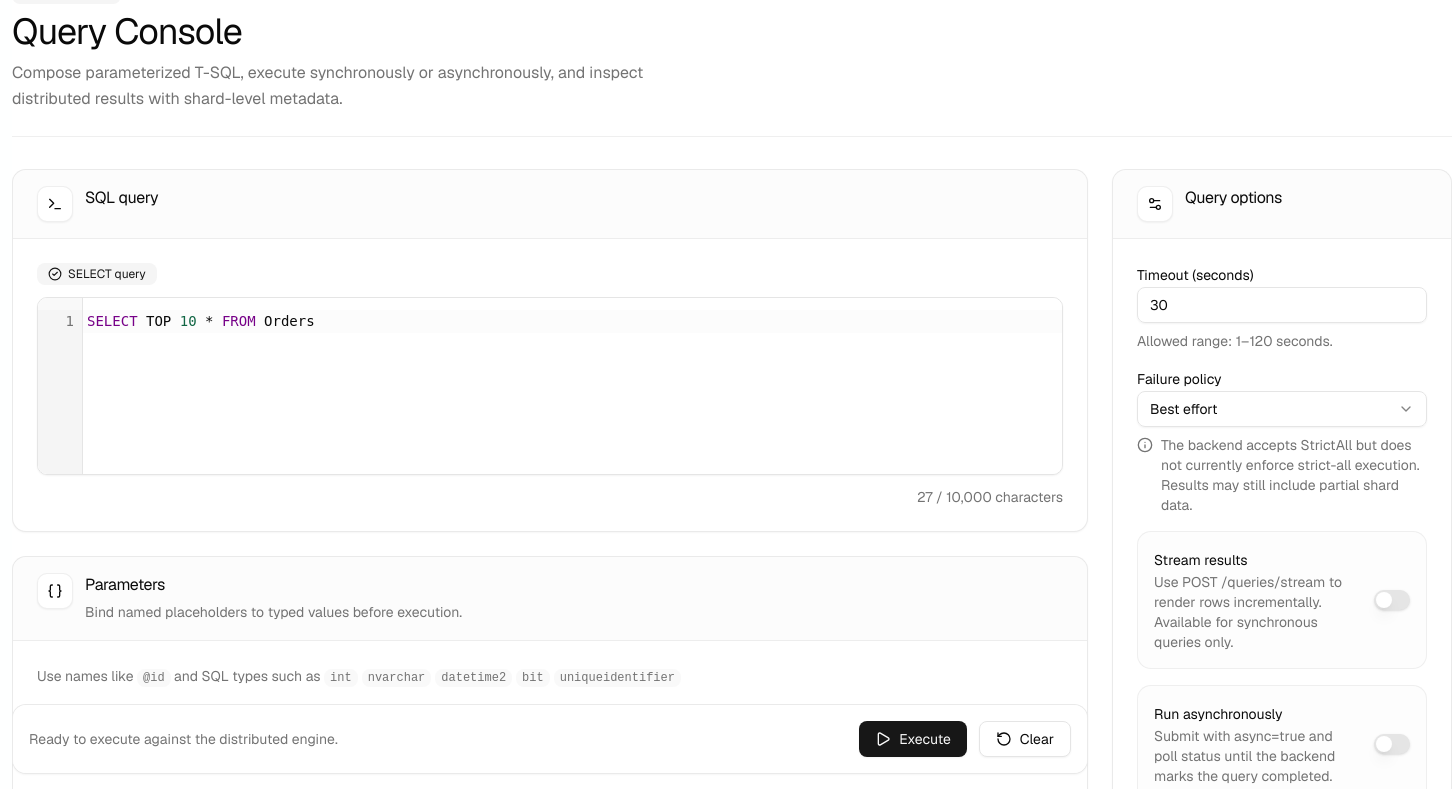
Test case: QueryConsolePage › shows a degradation banner for 206 partial content responses
This screenshot has width=1452, height=789.
Click the button "Execute".
click(913, 739)  # box [859, 721, 967, 757]
(page scrolled)
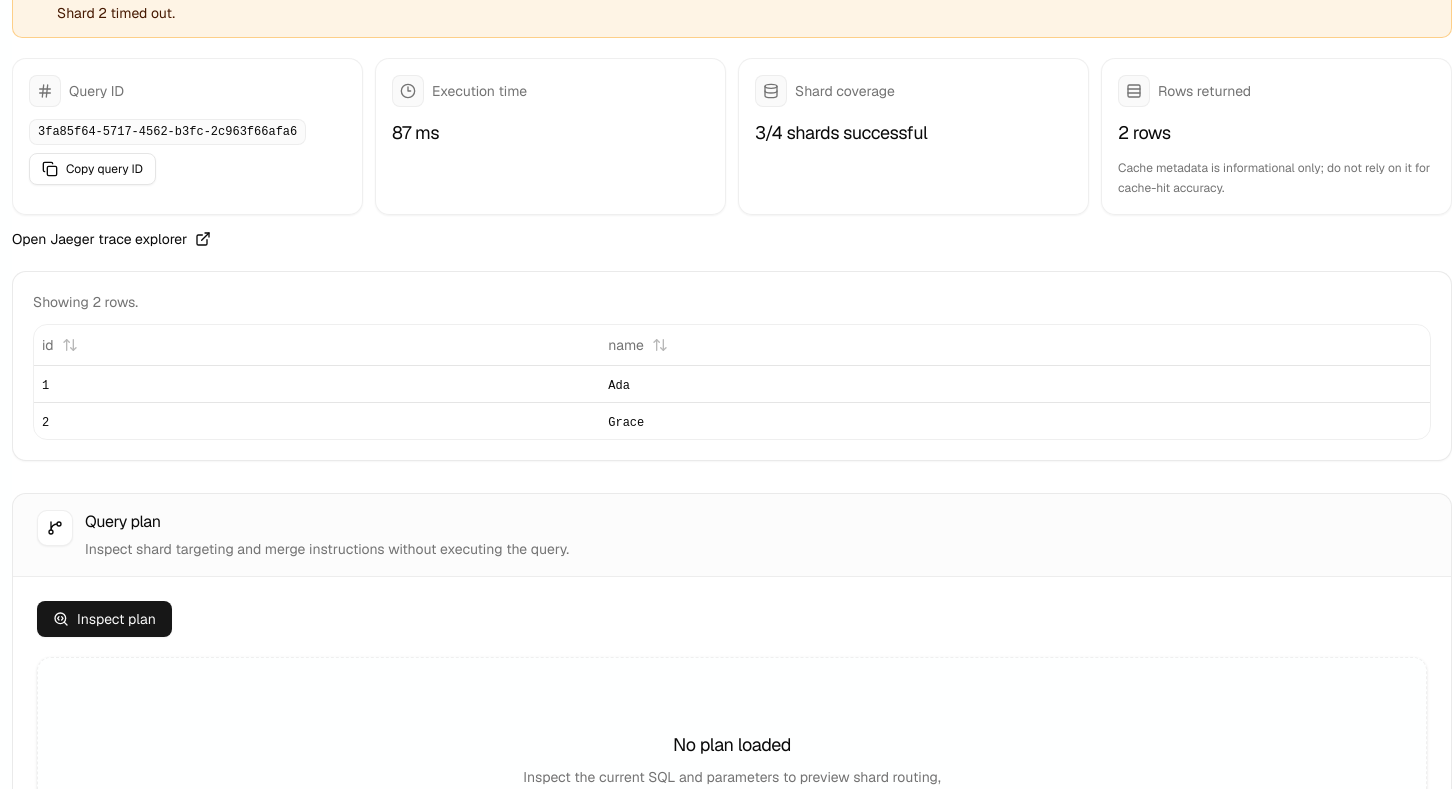
Check: the message shows "Shard 2 timed out.", box [57, 4, 175, 22]
Check: the text "Ada" is shown, box [608, 378, 630, 392]
